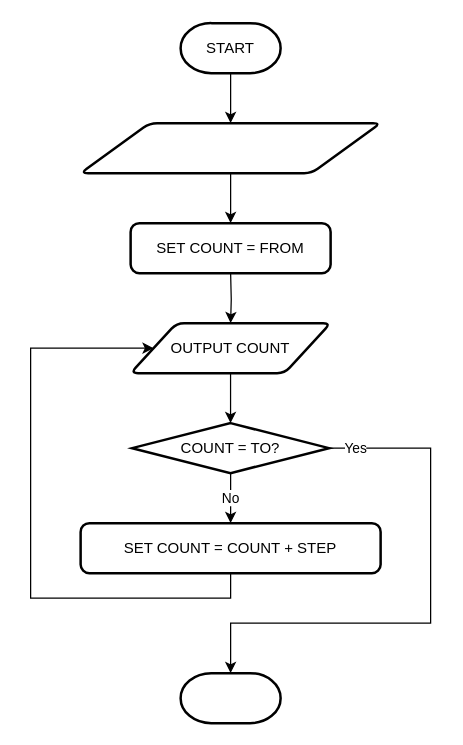
The diagram is 463 pixels wide and 745 high, and some of its shapes have lost their labels. The centre of each missing label's shape, as x and y in pixels:
"INPUT FROM, TO, STEP" goes at (230,147).
"STOP" goes at (230,697).
